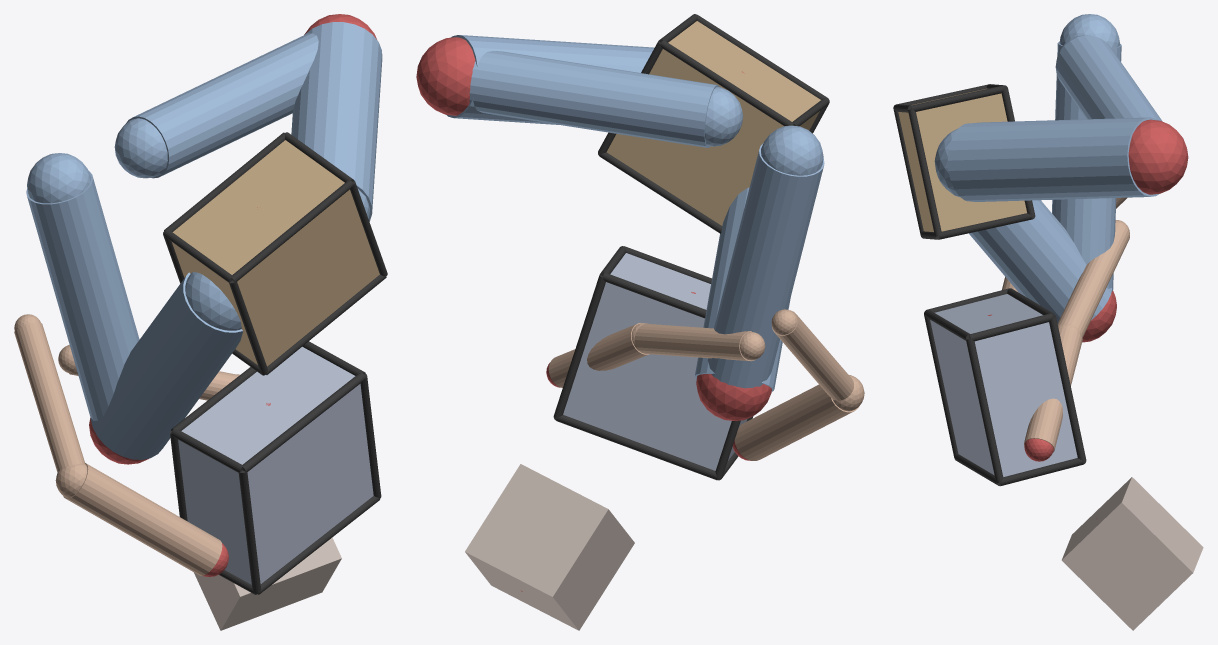
The model's file is maquette_modified_working.glb.
3 renders of one model, left to right at view 1: azimuth 30°, elevation 25°; view 2: azimuth 150°, elevation 25°; view 3: azimuth 270°, elevation 25°, orthographic. The views are drawn at different scales.
Visible parts, largest first — view 1: world; view 2: world; view 3: world.
Boxes of the visible parts, left/top/right/bottom form: world: left=14, top=14, right=387, bottom=630; world: left=416, top=14, right=864, bottom=630; world: left=893, top=14, right=1203, bottom=630.
Bounding box in the file's own units: 0.6497 × 0.9367 × 0.4894.
